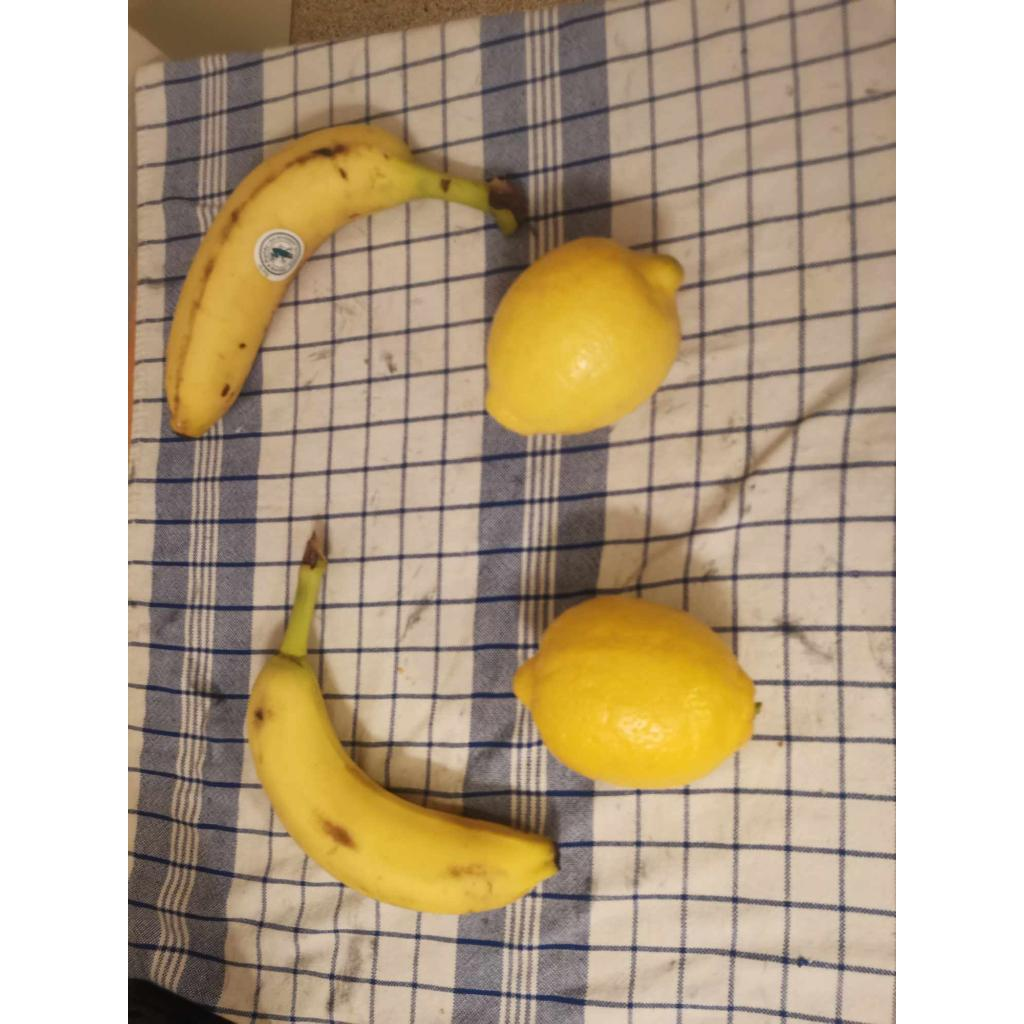banana: (246, 536, 558, 914), (166, 126, 520, 436)
lemon: (514, 596, 758, 788), (486, 238, 684, 434)
